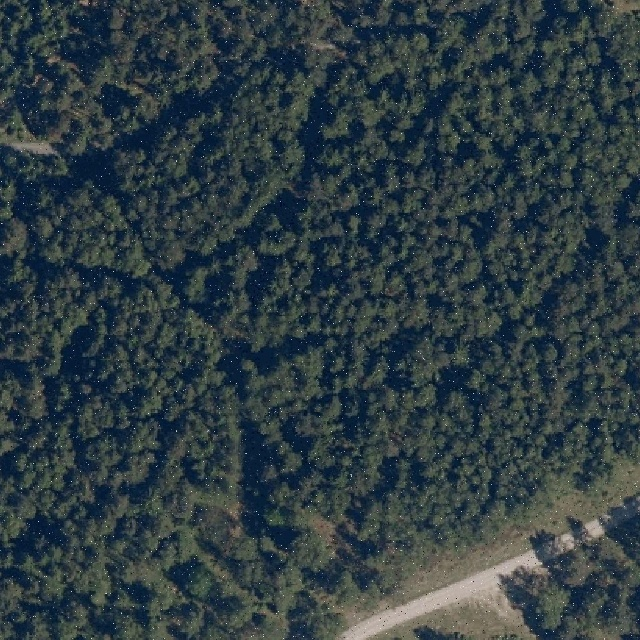vegetation: (1, 0, 639, 640), (522, 512, 640, 640)
